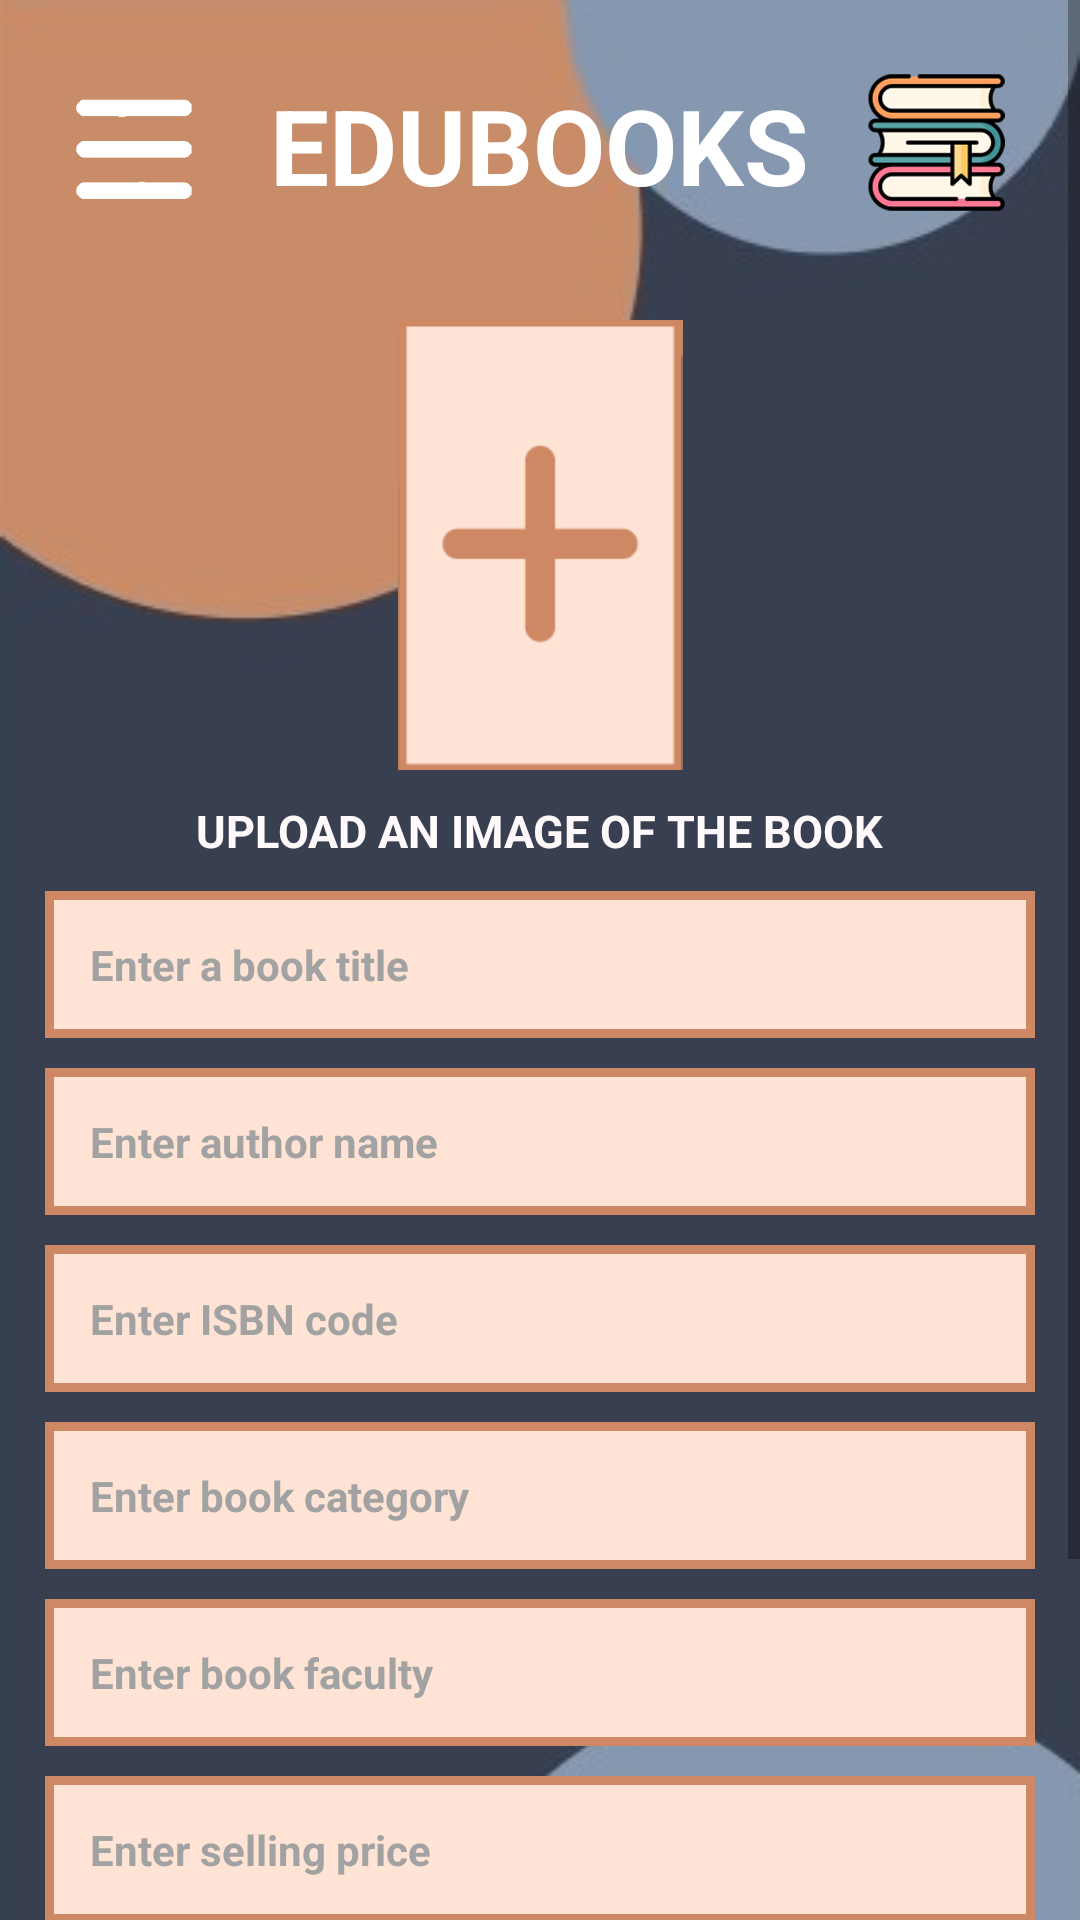

Point at icon controls on the screen. Image size 1080 × 1920, points as [x,y].
menuwhite: [134,149]
